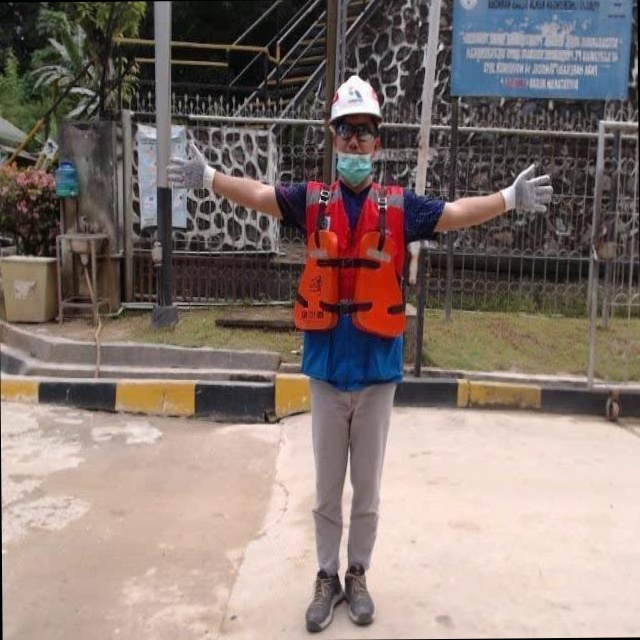boots: (299, 571, 340, 635), (268, 566, 299, 630)
gloves: (85, 166, 140, 222), (424, 140, 473, 194)
vest: (233, 181, 346, 382)
